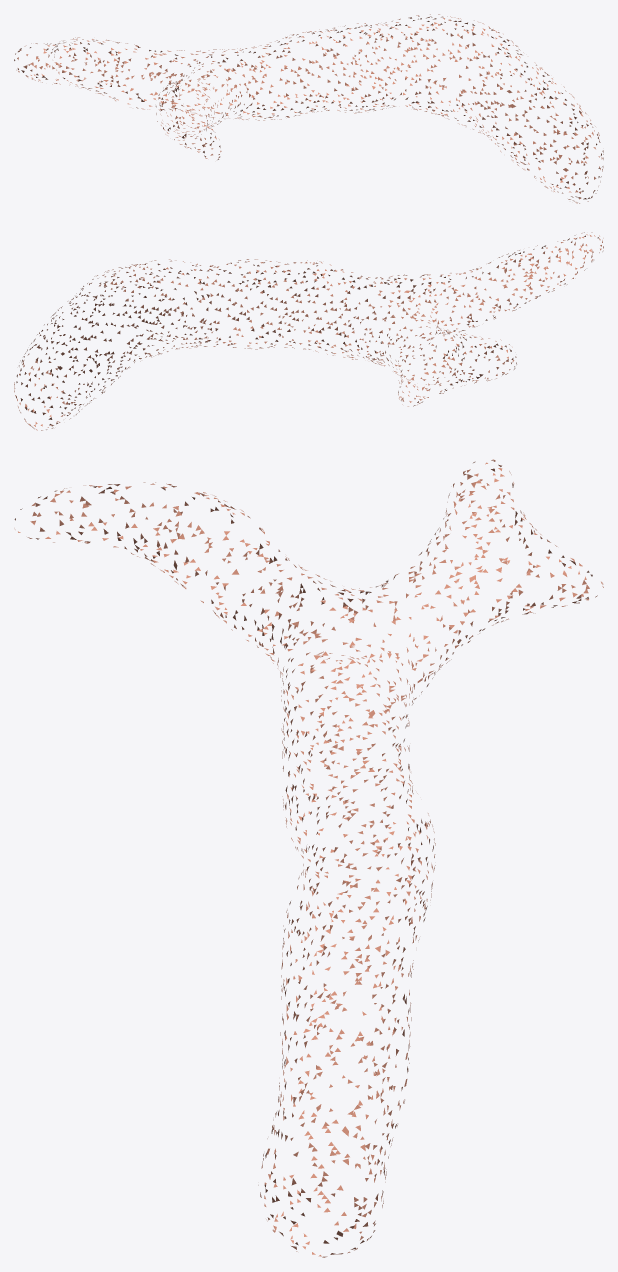
The model's file is morph_003.glb.
3 views of the same model, one above another, from view 1: azimuth 30°, elevation 25°; view 2: azimuth 150°, elevation 25°; view 3: azimuth 270°, elevation 25° (orthographic). The views are drawn at different scales.
Size of the model in its own units: 115 by 51.5 by 66.8.
